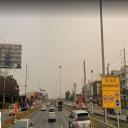speed_limit_100: (109, 93, 114, 104)
speed_limit_120: (115, 91, 120, 98)
speed_limit_80: (103, 93, 108, 104)
